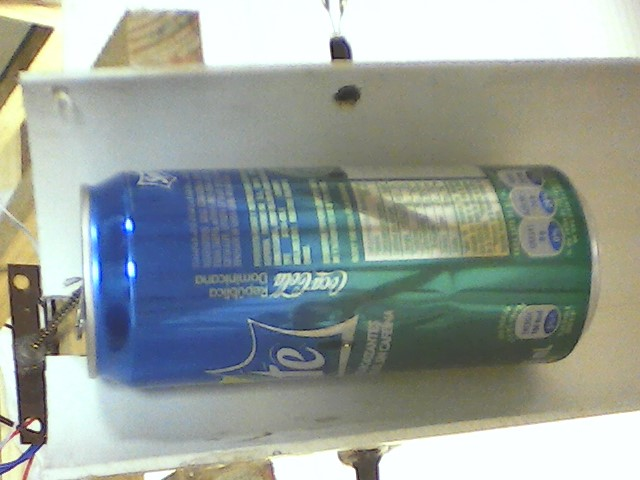lata: (75, 160, 606, 392)
